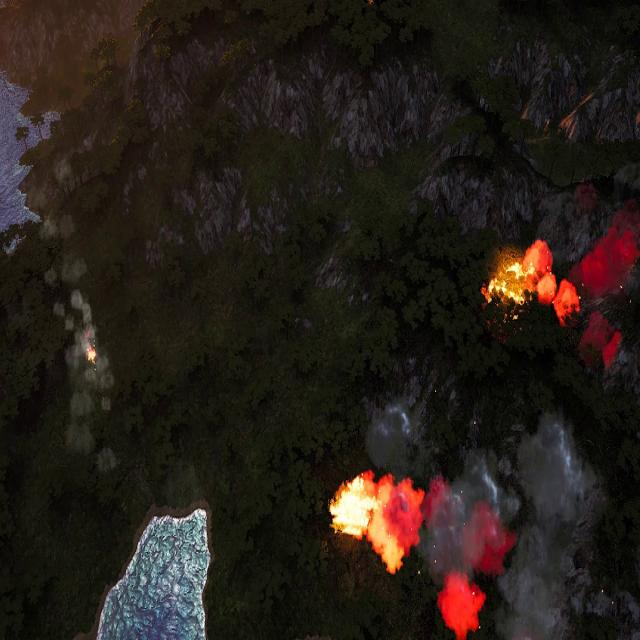fire: (328, 474, 420, 576), (483, 241, 552, 308), (330, 472, 382, 538), (88, 347, 98, 364)
smoke: (365, 399, 606, 636), (534, 158, 637, 379), (52, 254, 116, 473), (363, 396, 416, 478)
